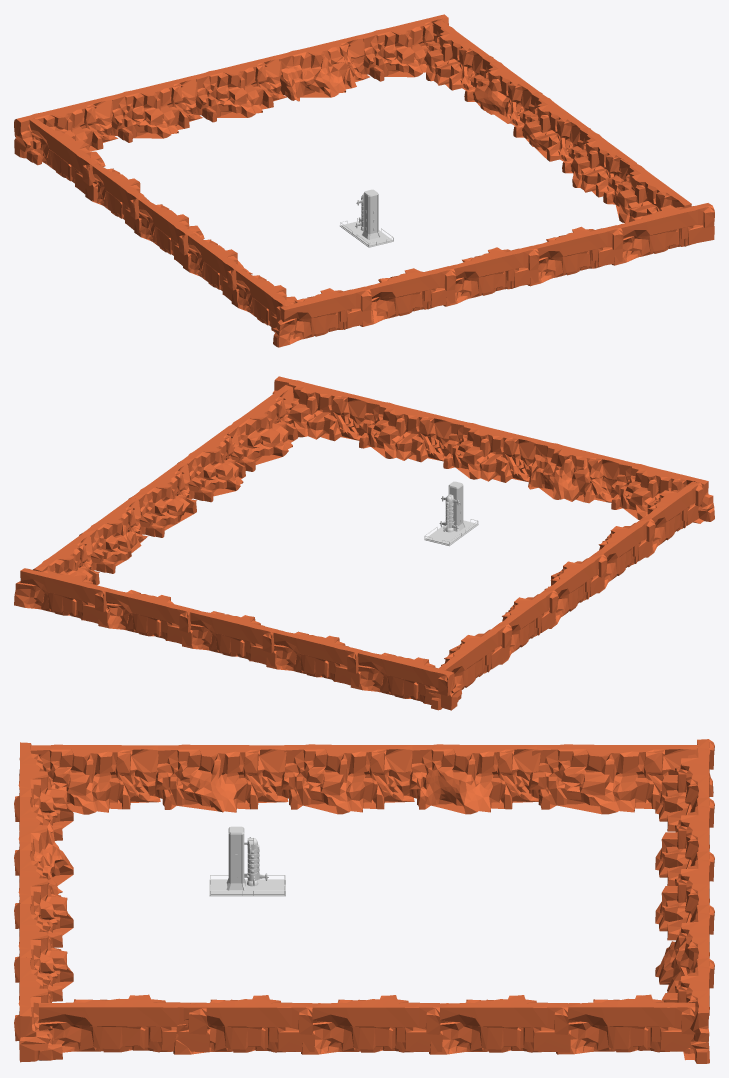
File: Landing.fbx
The picture shows the model from 3 angles, top to bottom: view 1: azimuth 30°, elevation 25°; view 2: azimuth 150°, elevation 25°; view 3: azimuth 270°, elevation 25°; orthographic projection. The views are drawn at different scales.
Parts seen in each view (by area): view 1: Cube.115, Cube.007, landingpad; view 2: Cube.115, landingpad, Cube.007; view 3: Cube.115, landingpad, Cube.007, Plane.027.
Boxes of the visible parts, left/top/right/bottom form: Cube.115: left=14, top=14, right=714, bottom=347; Cube.007: left=362, top=189, right=380, bottom=239; landingpad: left=340, top=217, right=393, bottom=247; Cube.115: left=14, top=376, right=714, bottom=710; landingpad: left=424, top=519, right=478, bottom=546; Cube.007: left=448, top=481, right=464, bottom=531; Cube.115: left=14, top=739, right=714, bottom=1063; landingpad: left=209, top=875, right=285, bottom=896; Cube.007: left=226, top=826, right=246, bottom=890; Plane.027: left=244, top=837, right=268, bottom=886.
Bounding box in the file's own units: 125 × 14.22 × 132.
